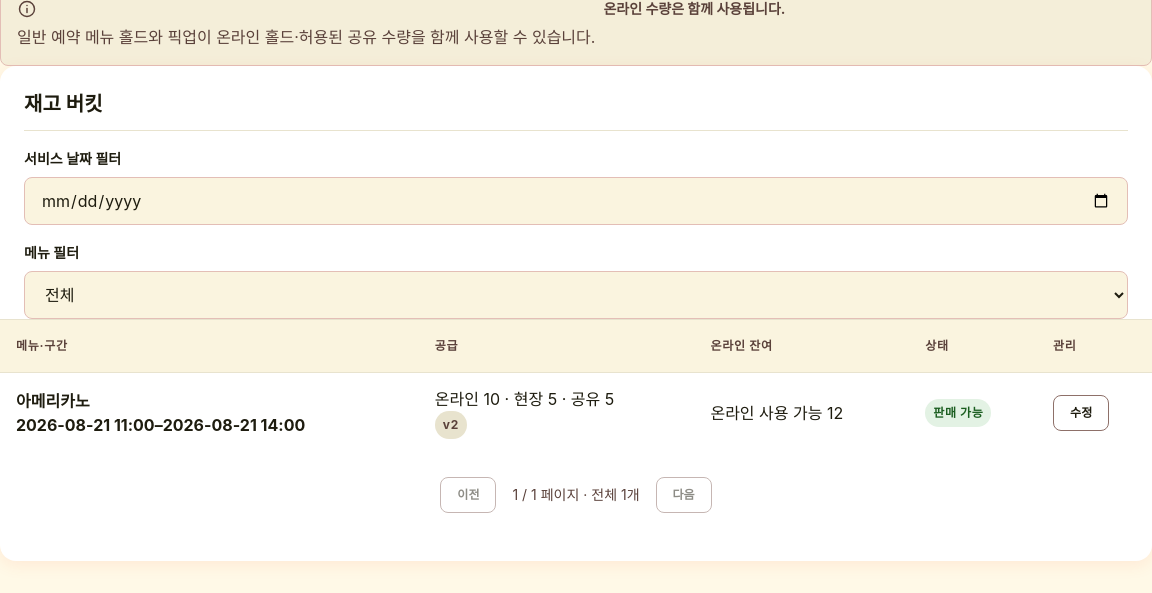
Test: 메뉴 재고 화면 › 기존 버킷 수정은 제공 구간을 바꾸지 않고 전체 수량 정책을 전송한다
The image size is (1152, 593).
Click the button with aria-label "재고 301 수정" at (1081, 413), box [1053,395,1109,431]
(page scrolled)
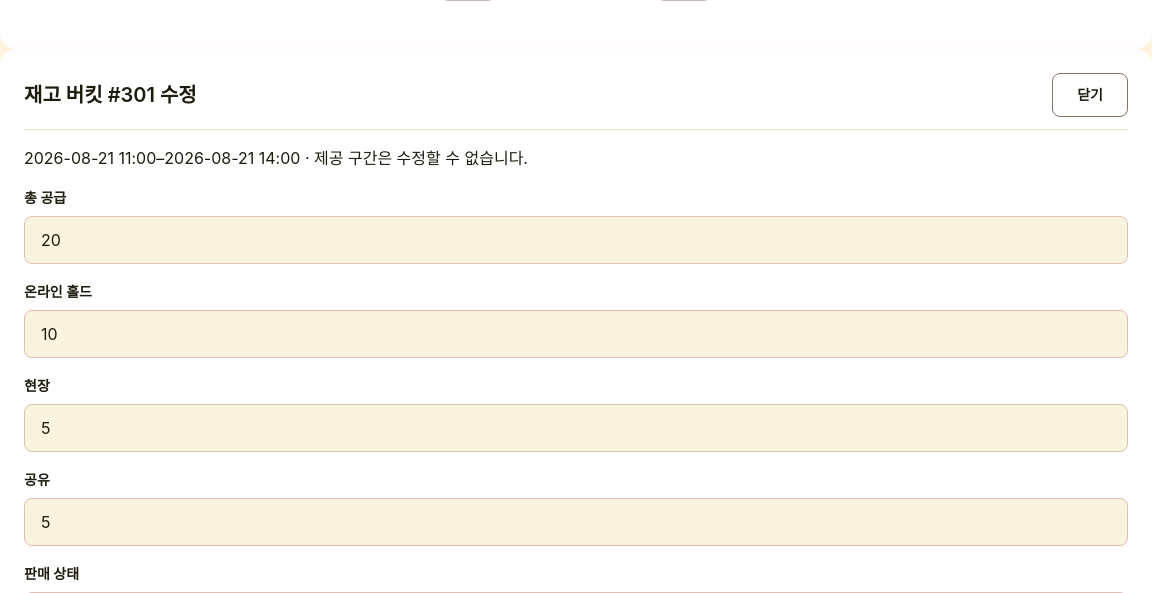
Replace the text in the number field labelled "총 공급" with "21" at (576, 240), box [24,216,1128,264]
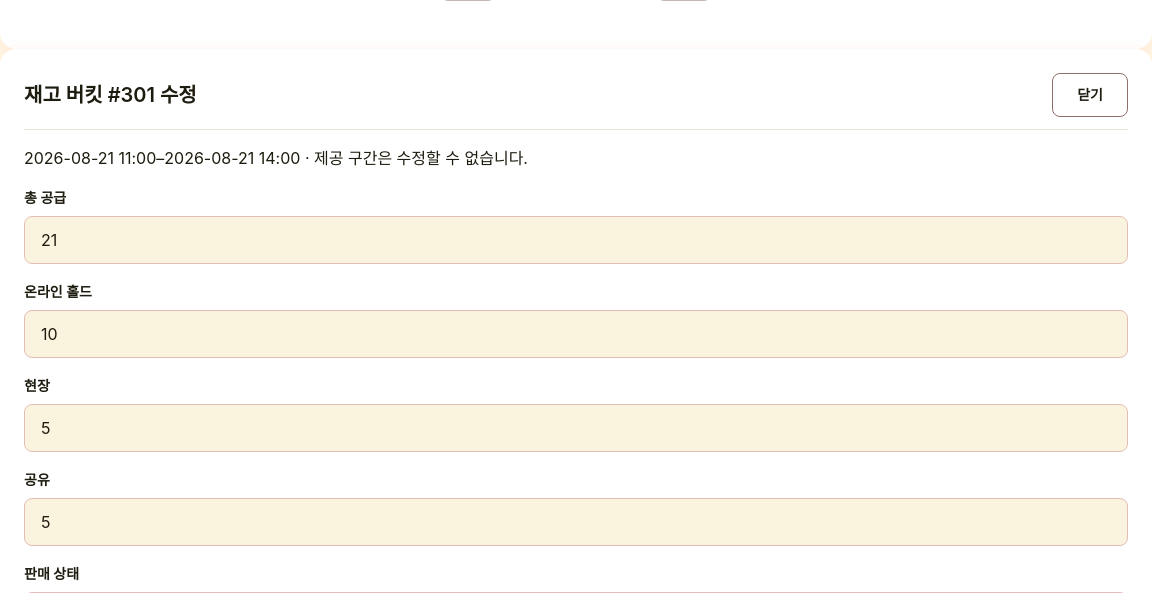
Replace the text in the number field labelled "온라인 홀드" with "11" at (576, 334), box [24,310,1128,358]
(page scrolled)
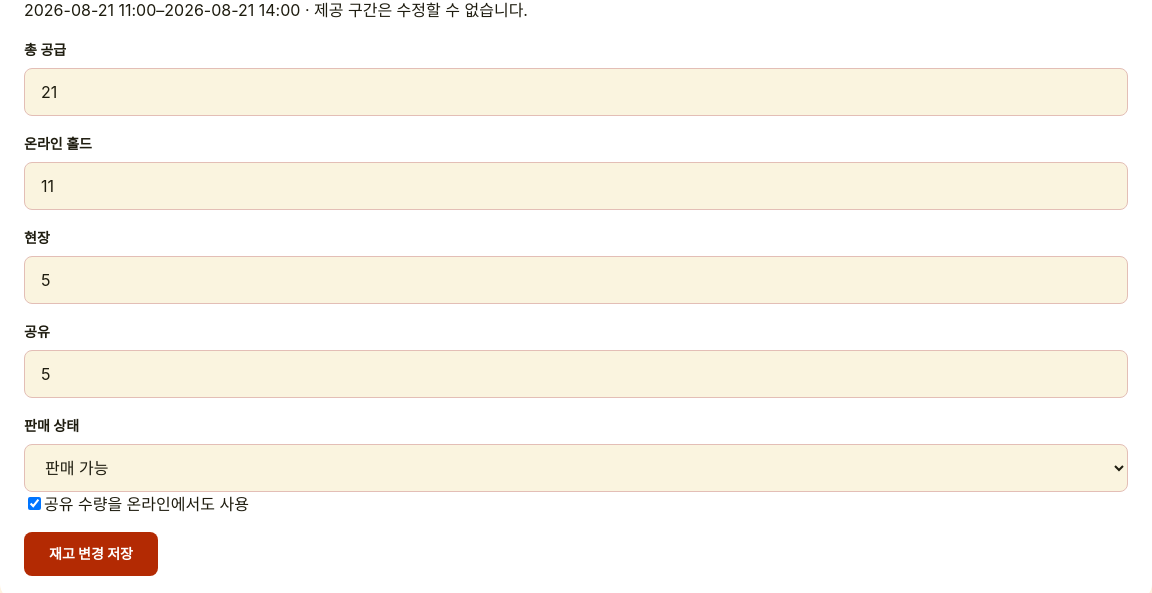
Click the button "재고 변경 저장" at (91, 554), box [24,532,158,576]
(page scrolled)
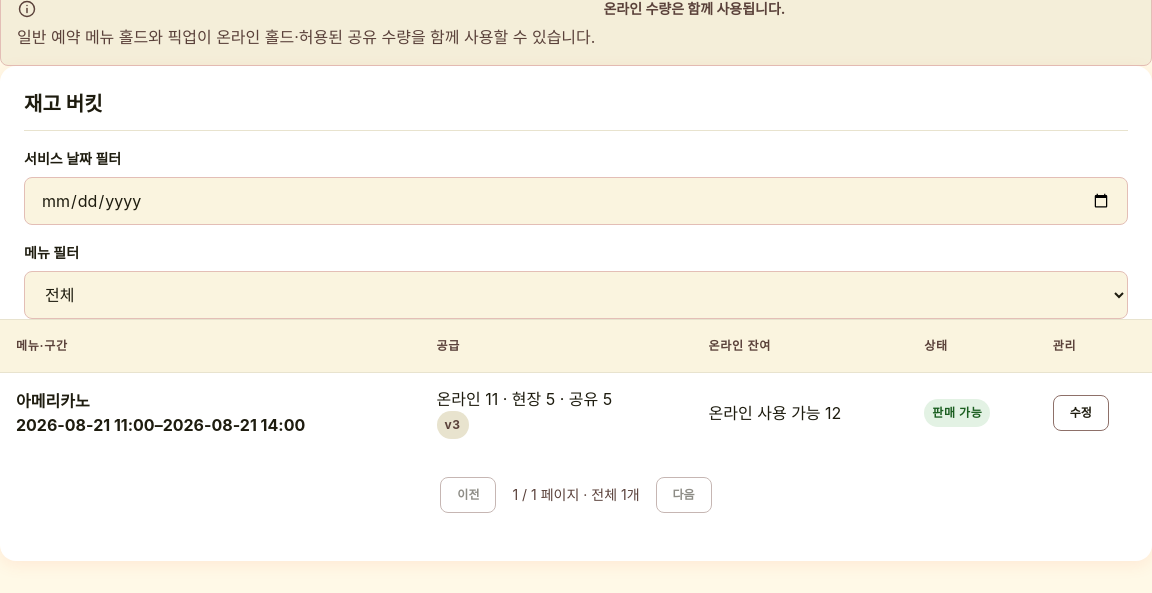
Expected: the text "v3" is shown, [436,411,469,439]
